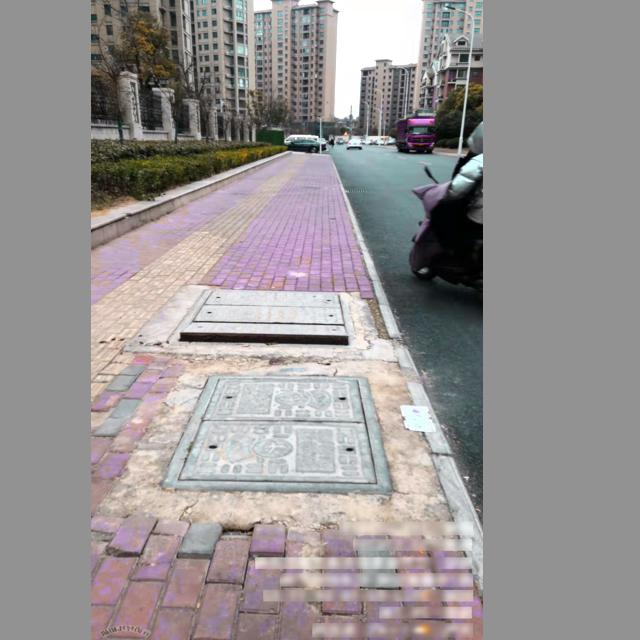good: (160, 375, 395, 496)
uncovered: (165, 290, 356, 350)
